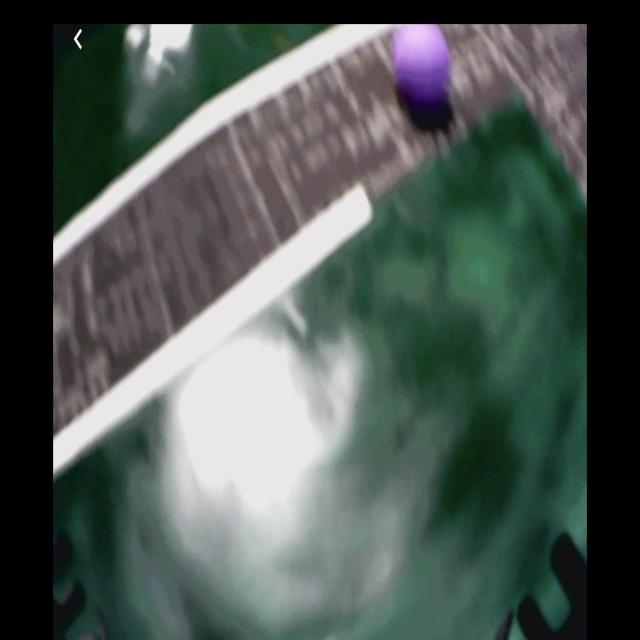ball: (389, 26, 450, 98)
